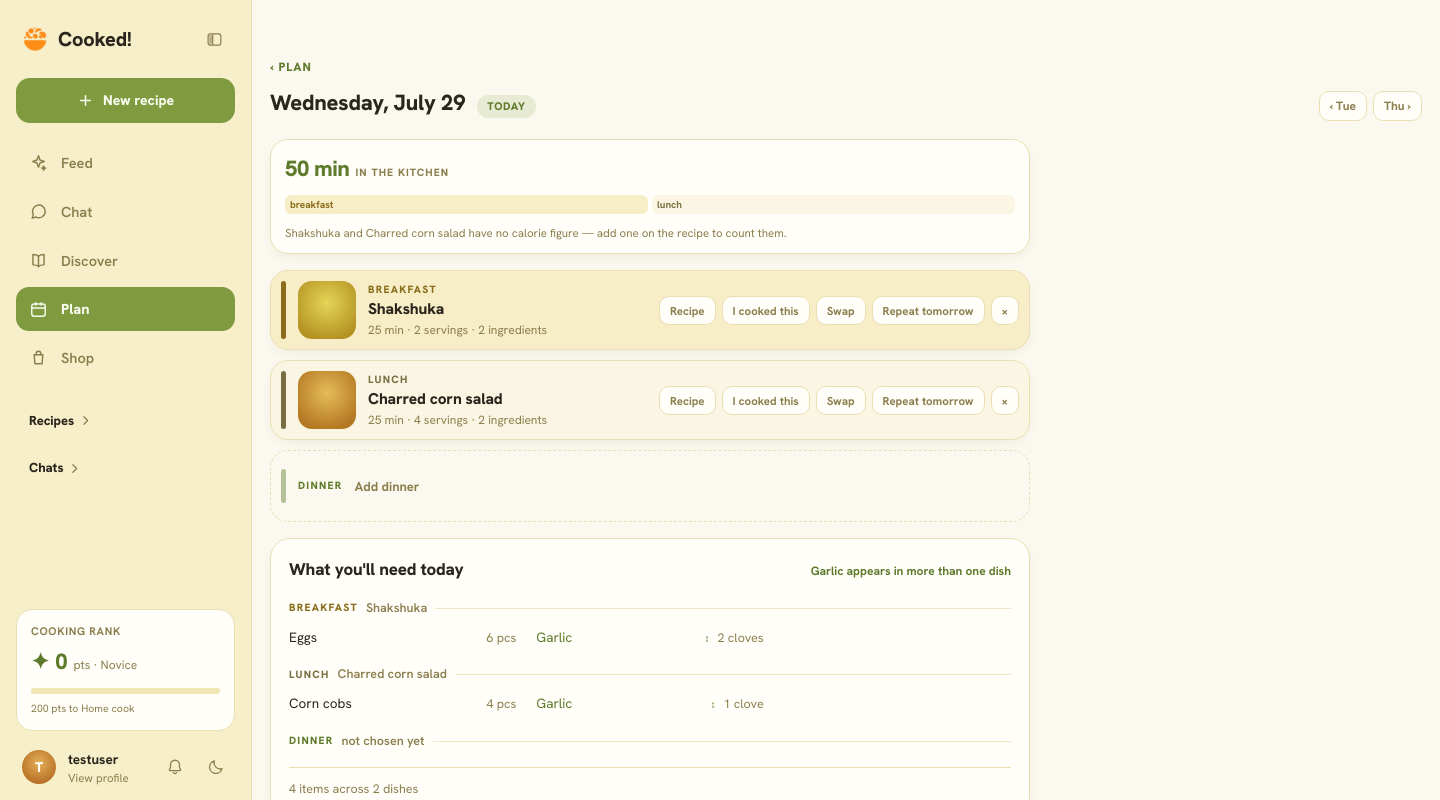
the day page › closes after a swap, because you came to change one thing
Click the button with aria-label "swap shakshuka" at (841, 310), box x1=816 y1=296 x2=866 y2=325
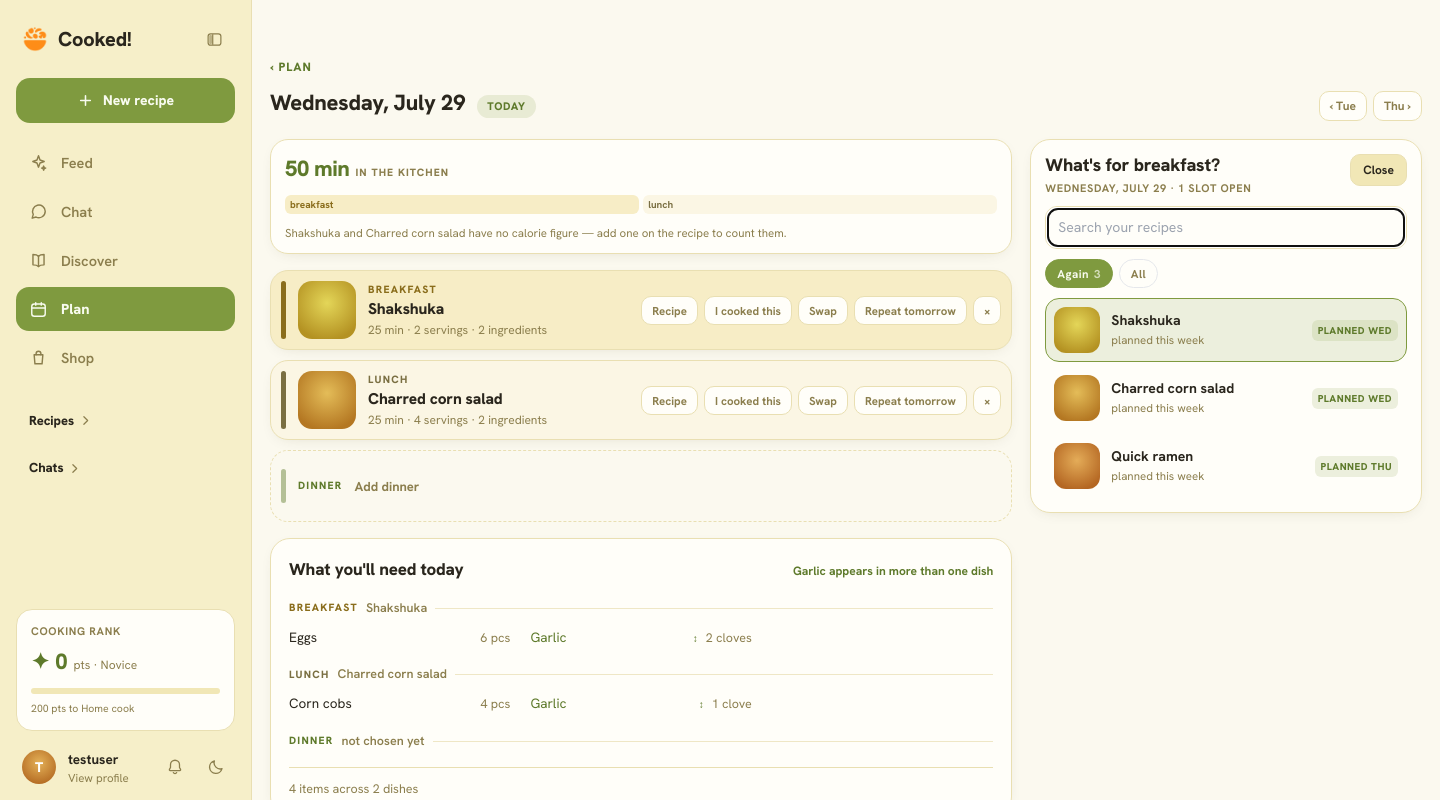
Click the tab "All" at (1139, 274), box x1=1119 y1=259 x2=1158 y2=288
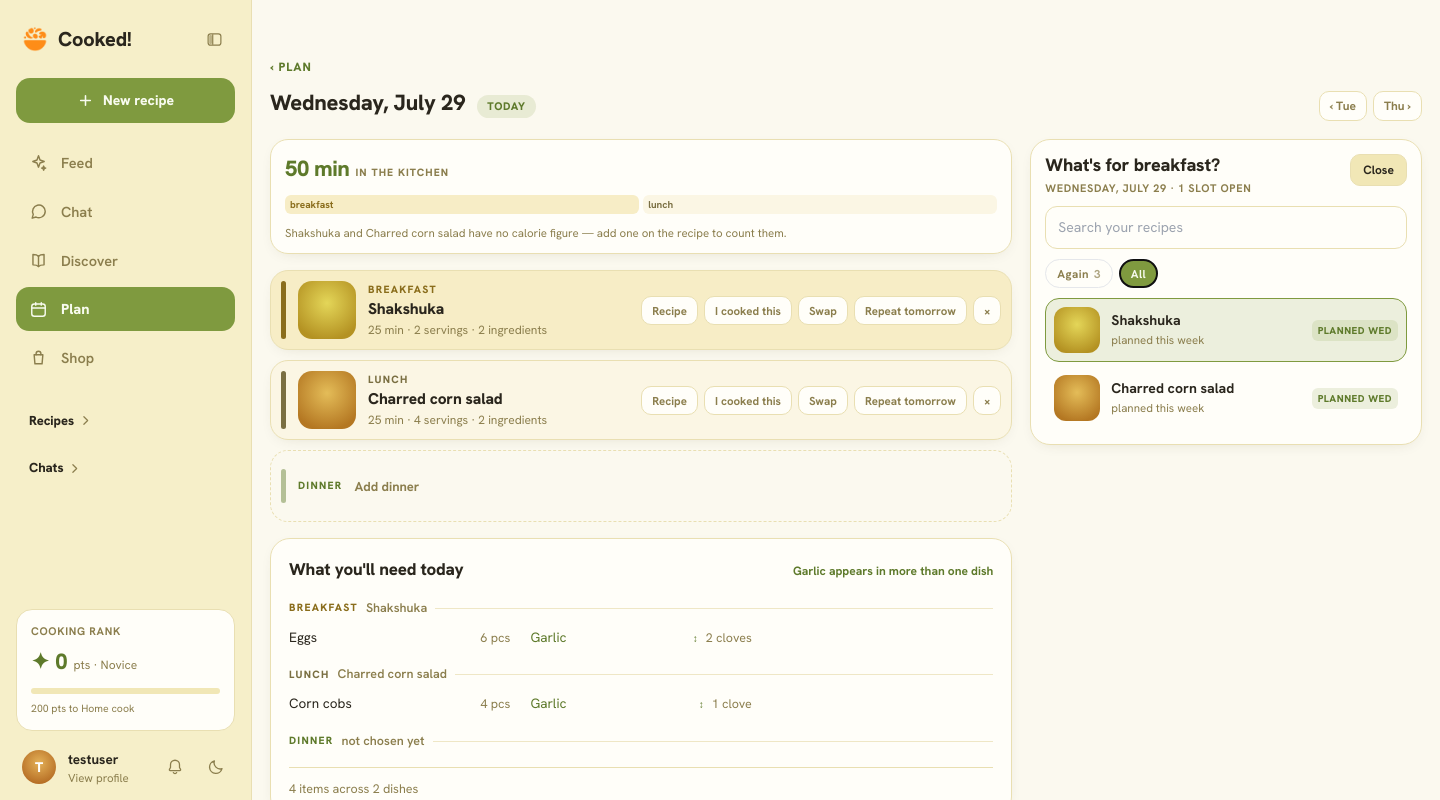
Click the button "Charred corn salad" at (1226, 398), box x1=1045 y1=366 x2=1407 y2=430
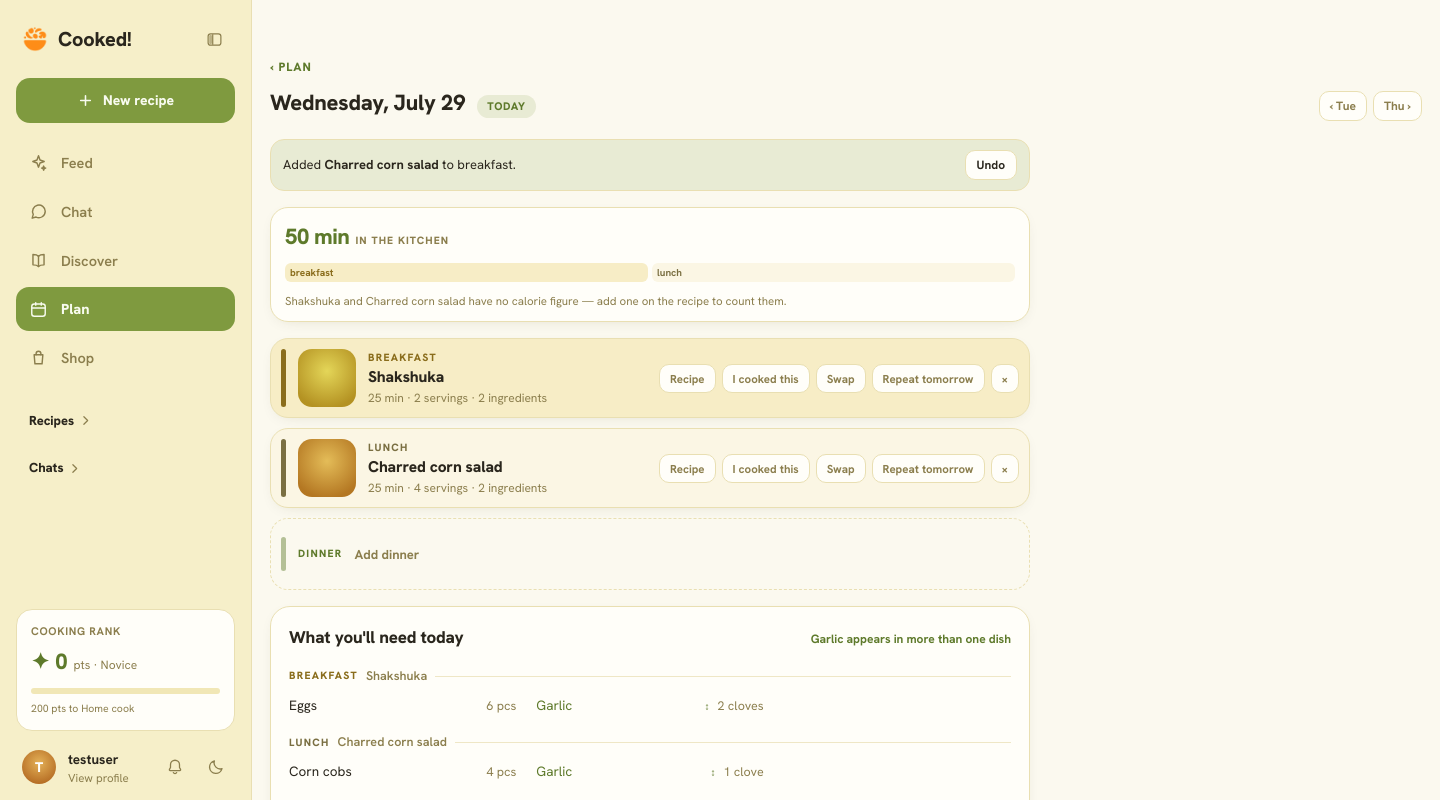
Expected: the heading "What's for" is gone
